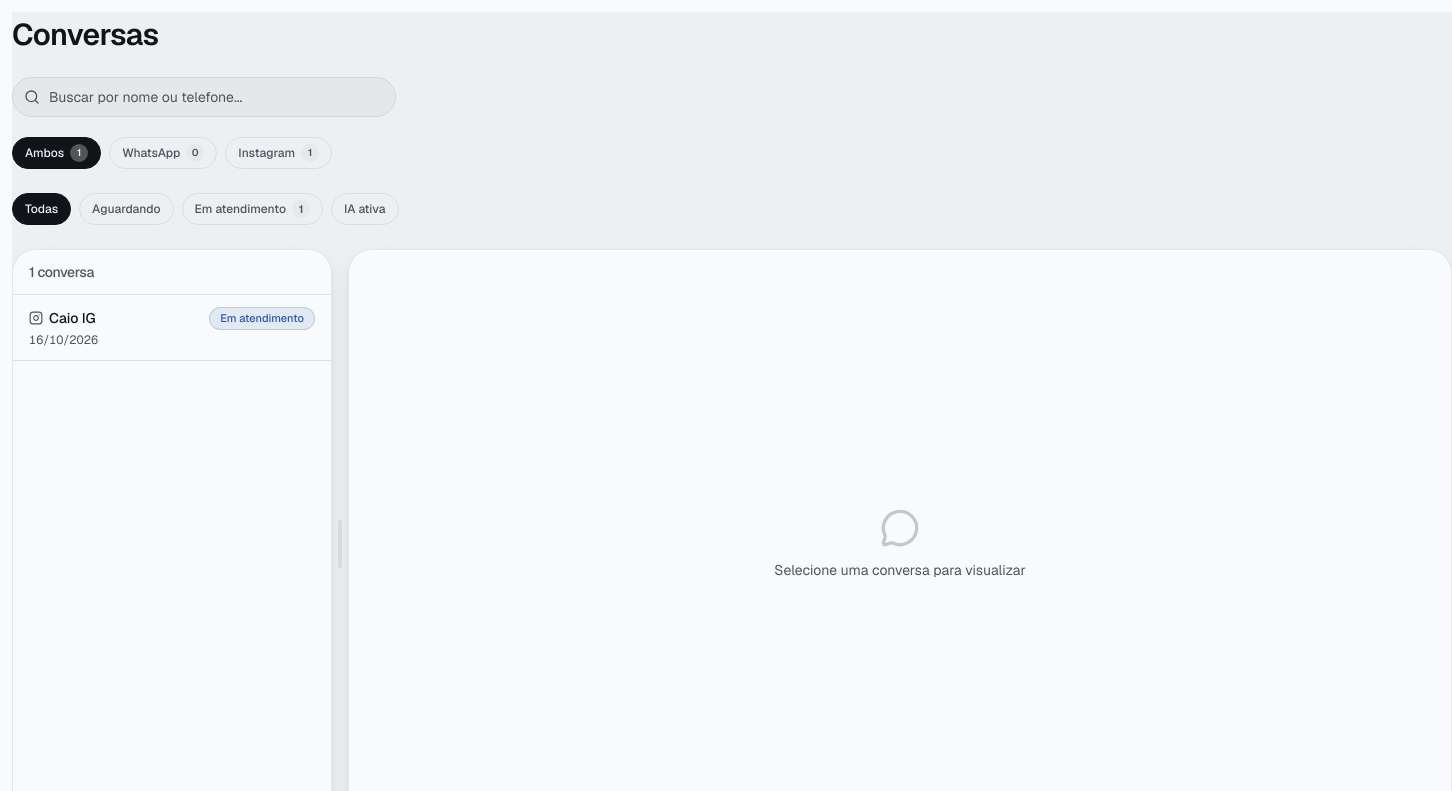
Conversa do Instagram: envio, copy e identidade › sem conta ativa (null) bloqueia com a copy de não conectada
Click the text "Caio IG": (72, 318) [49,308,96,328]
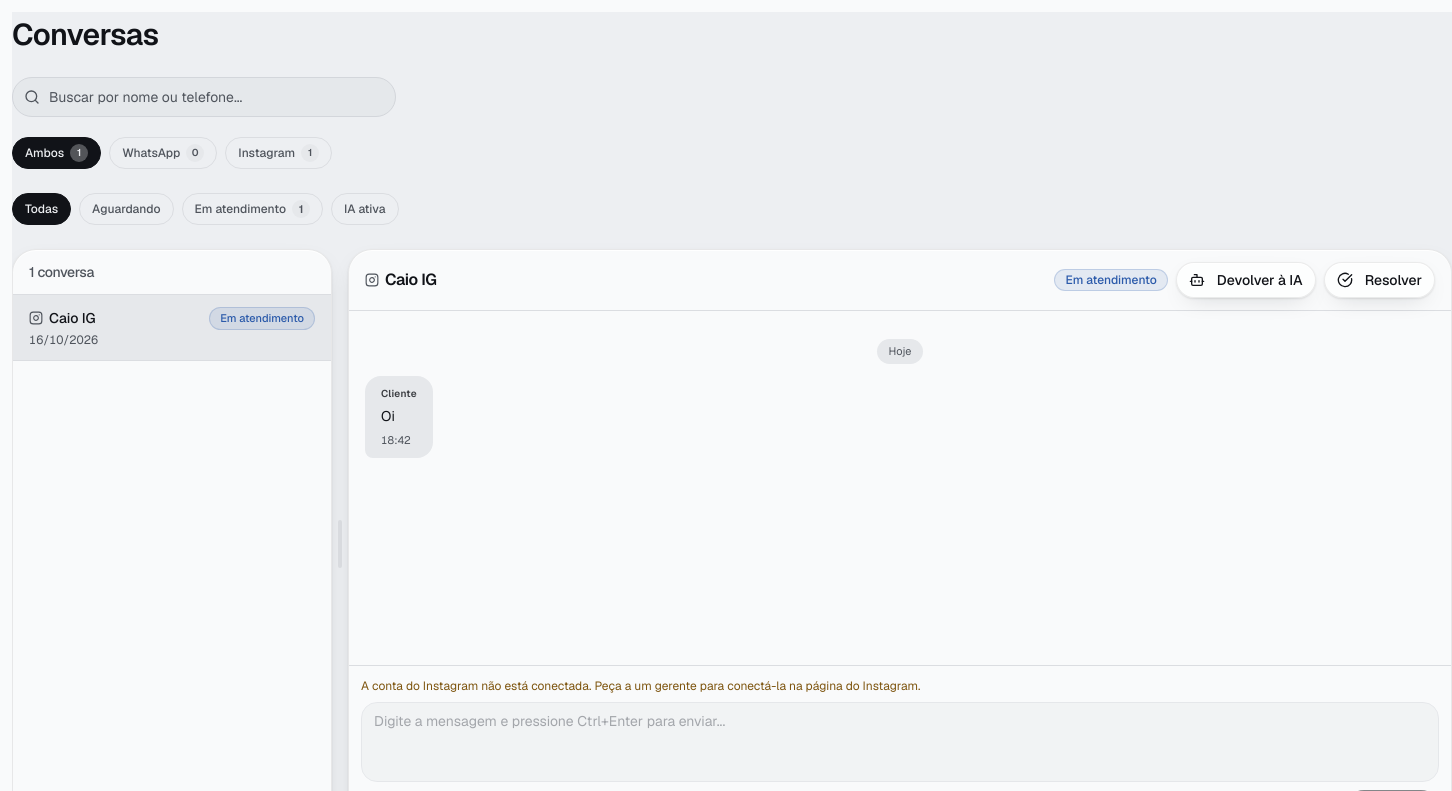
Result: the text "Oi" is shown at [381,406,395,424]
Result: the text box with placeholder "Digite a mensagem e pressione Ctrl+Enter para enviar..." is disabled at [361,702,1439,782]
